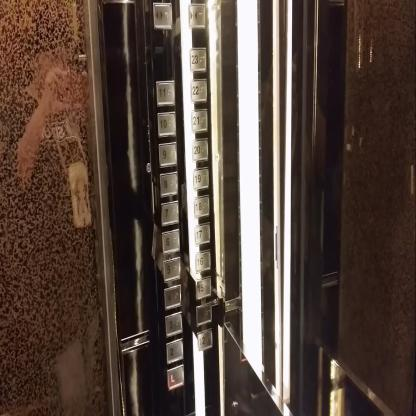10: (156, 110, 177, 138)
11: (156, 79, 174, 106)
12: (196, 326, 212, 350)
15: (195, 274, 211, 300)
16: (195, 248, 210, 273)
17: (194, 221, 210, 246)
18: (193, 194, 209, 218)
19: (192, 165, 209, 191)
2: (166, 336, 183, 364)
20: (192, 137, 209, 163)
21: (191, 107, 208, 132)
22: (190, 78, 207, 102)
23: (189, 47, 207, 72)
3: (165, 310, 182, 337)
4: (163, 283, 182, 311)
5: (162, 256, 180, 284)
6: (161, 228, 180, 254)
7: (160, 199, 179, 226)
8: (159, 170, 178, 197)
9: (158, 141, 177, 168)
L: (167, 364, 184, 391)
blur: (195, 301, 212, 327)
close: (188, 3, 206, 29)
open: (152, 2, 173, 30)
